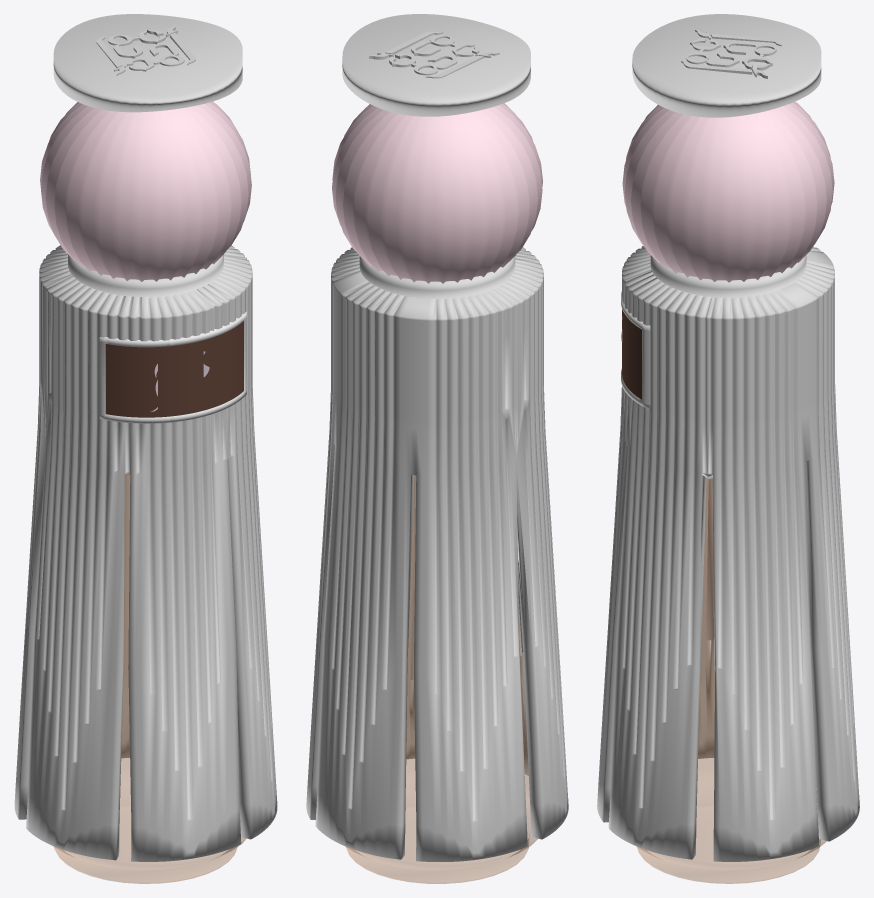
Rendered from try_2.glb.
3 views of the same model, side by side, from view 1: azimuth 30°, elevation 25°; view 2: azimuth 150°, elevation 25°; view 3: azimuth 270°, elevation 25° (orthographic).
Visible parts, largest first — view 1: Circle.015, Sphere.002, Cylinder.005, Circle.013, Circle.011, Circle.014, Curve.007; view 2: Circle.015, Sphere.002, Cylinder.005, Circle.011, Curve.007; view 3: Circle.015, Sphere.002, Cylinder.005, Circle.011, Curve.007, Circle.013, Circle.014.
Boxes of the visible parts, x1,y1,x2,y2 form: Circle.015: (14,245,277,861); Sphere.002: (40,101,251,281); Cylinder.005: (53,14,242,112); Circle.013: (105,321,243,417); Circle.011: (53,474,246,883); Circle.014: (98,311,246,423); Curve.007: (96,25,195,75); Circle.015: (306,247,568,861); Sphere.002: (332,103,542,283); Cylinder.005: (342,14,530,116); Circle.011: (345,475,537,883); Curve.007: (369,31,499,78); Circle.015: (597,245,859,861); Sphere.002: (622,101,834,282); Cylinder.005: (632,14,821,117); Circle.011: (637,478,826,883); Curve.007: (681,30,781,78); Circle.013: (622,309,641,399); Circle.014: (621,291,650,407).
Size of the model in its own units: 0.1078 by 0.361 by 0.1081.
